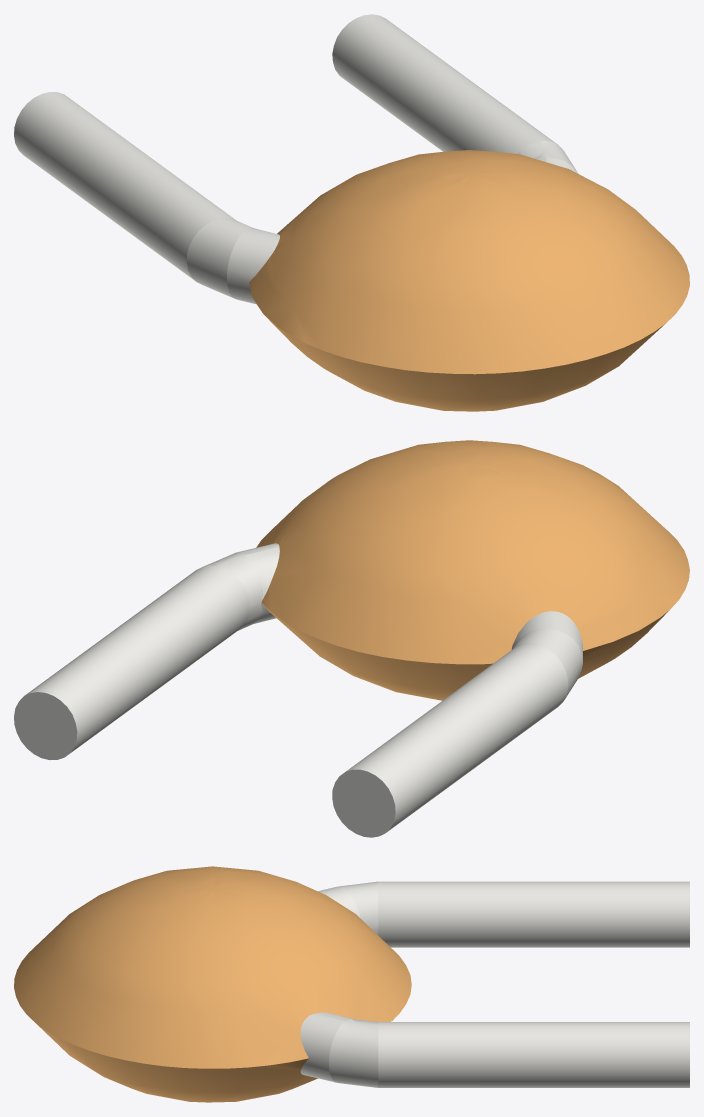
Rendered from C_Disc_D3.0mm_W1.6mm_P2.50mm.glb.
3 renders of one model, top to bottom at view 1: azimuth 30°, elevation 25°; view 2: azimuth 150°, elevation 25°; view 3: azimuth 270°, elevation 25°, orthographic. The views are drawn at different scales.
Visible parts, largest first — view 1: Shape_IndexedFaceSet.005, Shape_IndexedFaceSet.010, Shape_IndexedFaceSet.001, Shape_IndexedFaceSet.004, Shape_IndexedFaceSet.007, Shape_IndexedFaceSet.009, Shape_IndexedFaceSet.002; view 2: Shape_IndexedFaceSet.005, Shape_IndexedFaceSet.001, Shape_IndexedFaceSet.010, Shape_IndexedFaceSet.004, Shape_IndexedFaceSet.011, Shape_IndexedFaceSet, Shape_IndexedFaceSet.007, Shape_IndexedFaceSet.002, Shape_IndexedFaceSet.009, Shape_IndexedFaceSet.006; view 3: Shape_IndexedFaceSet.005, Shape_IndexedFaceSet.010, Shape_IndexedFaceSet.001, Shape_IndexedFaceSet.004, Shape_IndexedFaceSet.002, Shape_IndexedFaceSet.003, Shape_IndexedFaceSet.007, Shape_IndexedFaceSet.009.
Part boxes in pixels (box(x1,y1,x2,y2)): Shape_IndexedFaceSet.005: box(249, 150, 689, 374); Shape_IndexedFaceSet.010: box(14, 92, 236, 281); Shape_IndexedFaceSet.001: box(332, 14, 557, 153); Shape_IndexedFaceSet.004: box(263, 314, 664, 411); Shape_IndexedFaceSet.007: box(186, 218, 252, 298); Shape_IndexedFaceSet.009: box(227, 228, 279, 304); Shape_IndexedFaceSet.002: box(517, 140, 576, 171); Shape_IndexedFaceSet.005: box(256, 440, 689, 664); Shape_IndexedFaceSet.001: box(24, 565, 249, 753); Shape_IndexedFaceSet.010: box(346, 643, 568, 832); Shape_IndexedFaceSet.004: box(262, 603, 669, 700); Shape_IndexedFaceSet.011: box(332, 769, 395, 837); Shape_IndexedFaceSet: box(14, 692, 77, 759); Shape_IndexedFaceSet.007: box(512, 628, 582, 699); Shape_IndexedFaceSet.002: box(203, 552, 263, 630); Shape_IndexedFaceSet.009: box(511, 611, 582, 659); Shape_IndexedFaceSet.006: box(245, 547, 279, 597); Shape_IndexedFaceSet.005: box(14, 866, 411, 1068); Shape_IndexedFaceSet.010: box(378, 881, 689, 947); Shape_IndexedFaceSet.001: box(378, 1022, 689, 1087); Shape_IndexedFaceSet.004: box(31, 1019, 392, 1102); Shape_IndexedFaceSet.002: box(329, 1019, 378, 1087); Shape_IndexedFaceSet.003: box(300, 1013, 344, 1082); Shape_IndexedFaceSet.007: box(340, 881, 378, 934); Shape_IndexedFaceSet.009: box(318, 886, 360, 918).
Bounding box in the file's own units: 1.18 × 0.63 × 2.01.
